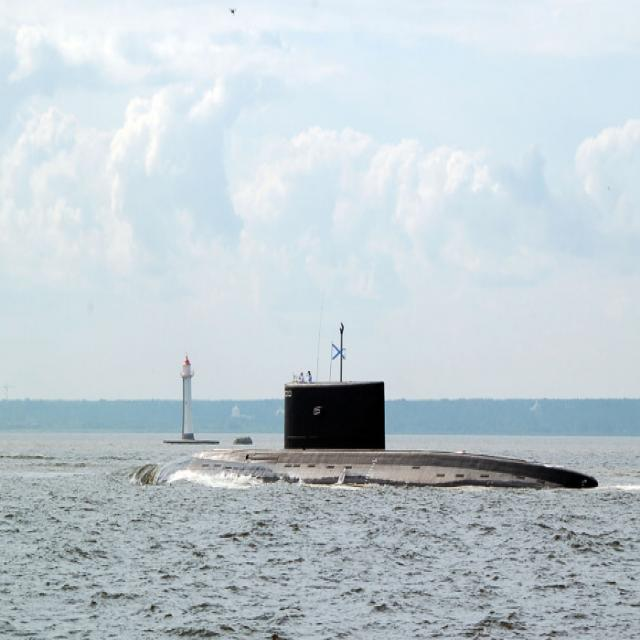submarine: (136, 382, 601, 488)
